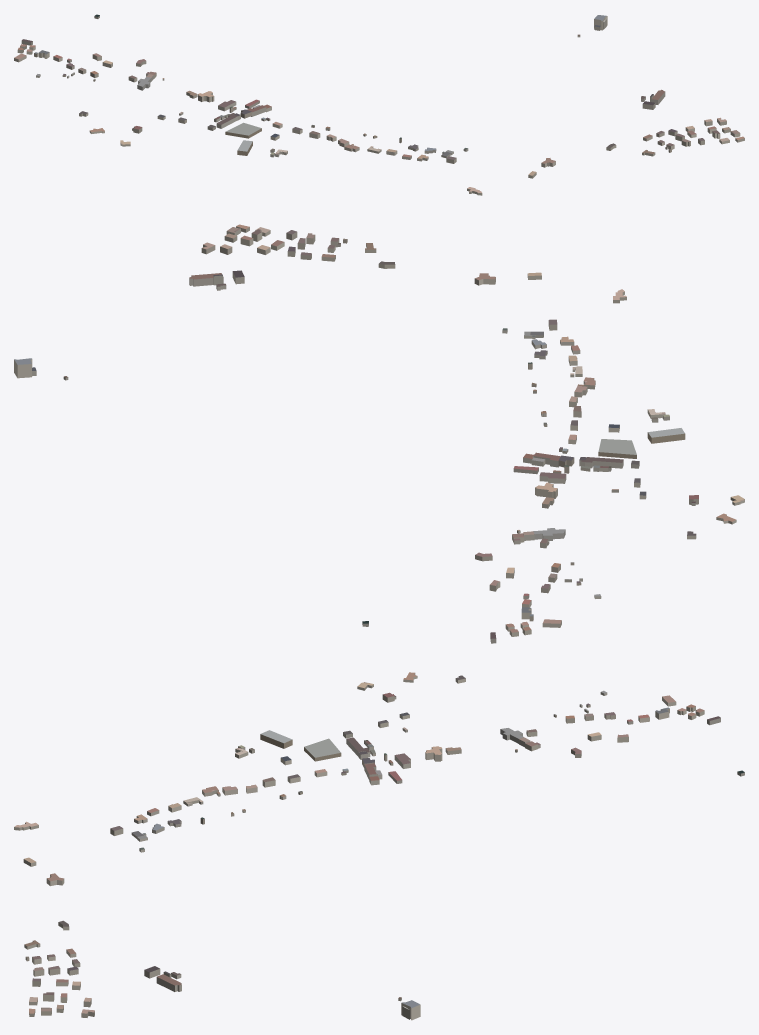
The picture shows the model from 3 angles, top to bottom: view 1: azimuth 30°, elevation 25°; view 2: azimuth 150°, elevation 25°; view 3: azimuth 270°, elevation 25°; orthographic projection. The views are drawn at different scales.
Visible parts, largest first — view 1: tuile; view 2: tuile; view 3: tuile.
Boxes of the visible parts, x1,y1,x2,y2 form: tuile: (14, 14, 744, 195); tuile: (14, 224, 744, 643); tuile: (14, 672, 744, 1020).
Size of the model in its own units: 1020 by 46.44 by 977.
